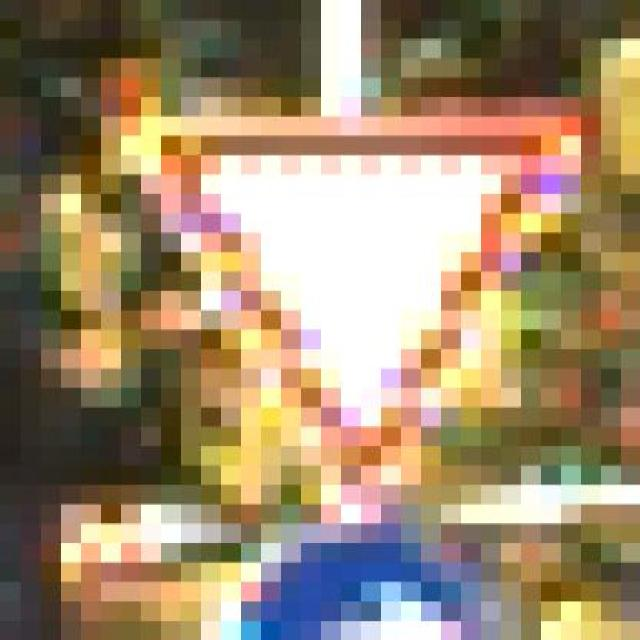Give Way: (83, 89, 603, 517)
